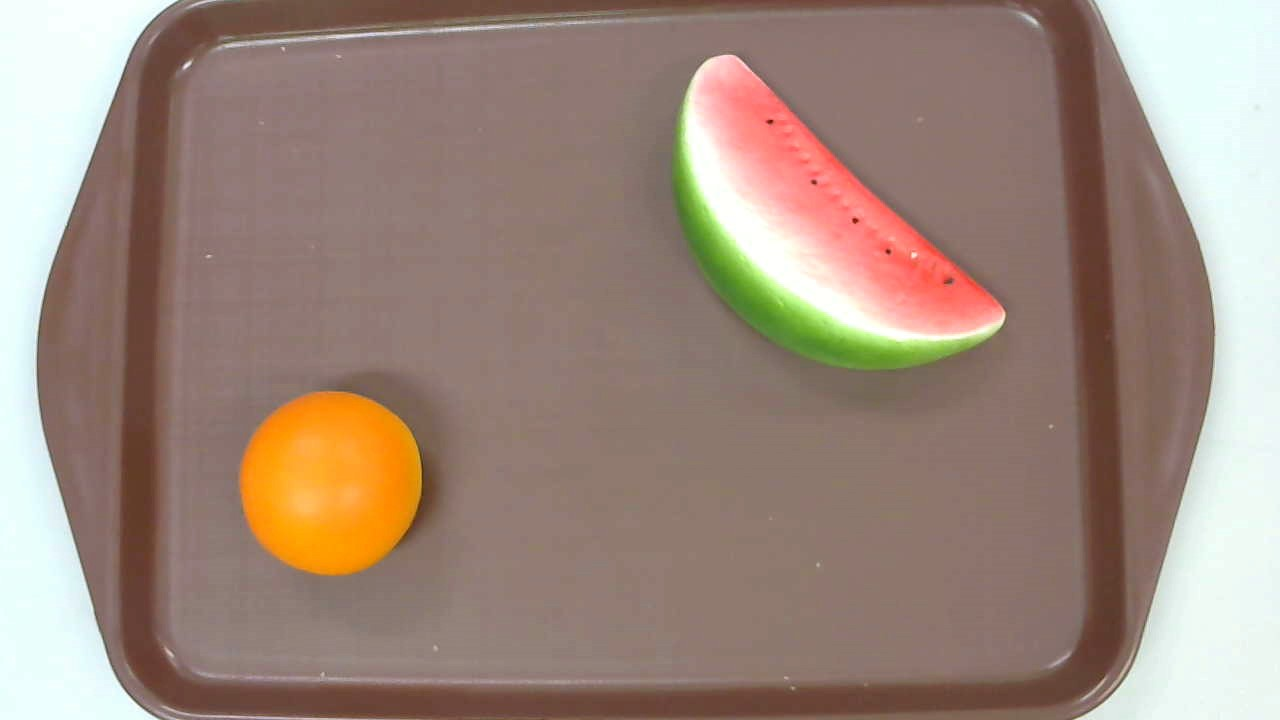bun: (237, 389, 423, 574)
water melon: (670, 53, 1006, 371)
